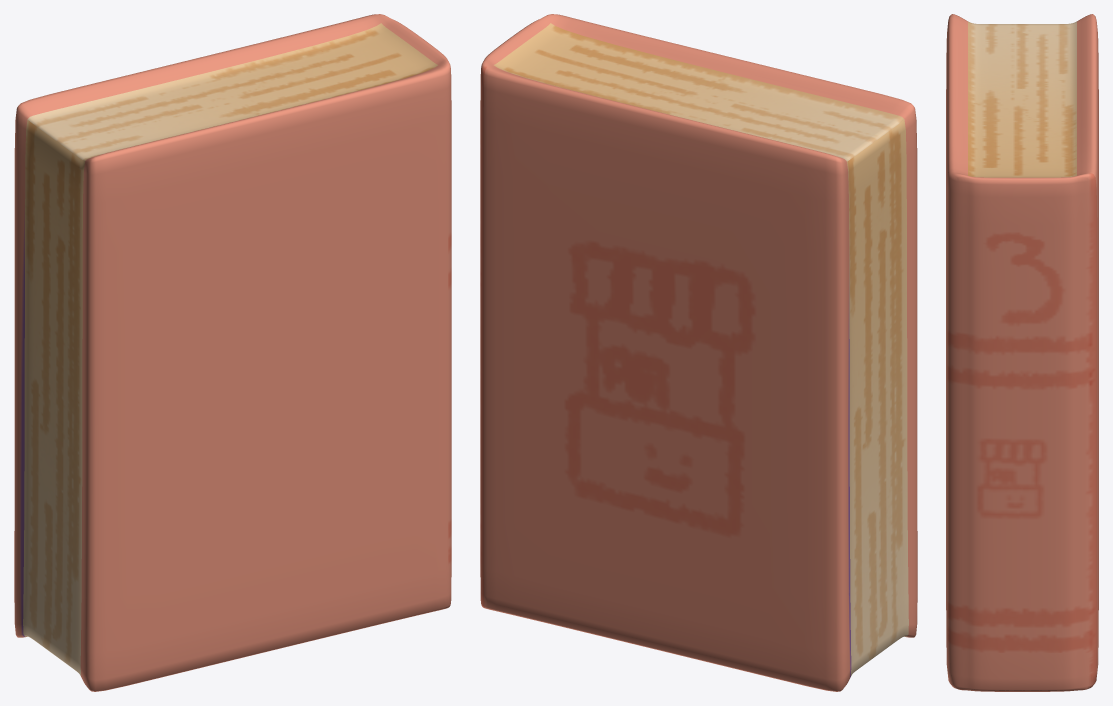
Rendered from level03.fbx.
3 renders of one model, left to right at view 1: azimuth 30°, elevation 25°; view 2: azimuth 150°, elevation 25°; view 3: azimuth 270°, elevation 25°, orthographic. The views are drawn at different scales.
Parts seen in each view (by area): view 1: Cube; view 2: Cube; view 3: Cube.
Part boxes in pixels (box(x1,y1,x2,y2)): Cube: box(14, 14, 451, 691); Cube: box(480, 14, 917, 691); Cube: box(946, 14, 1098, 691).
Bounding box in the file's own units: 7.54 × 20.27 × 28.04.
